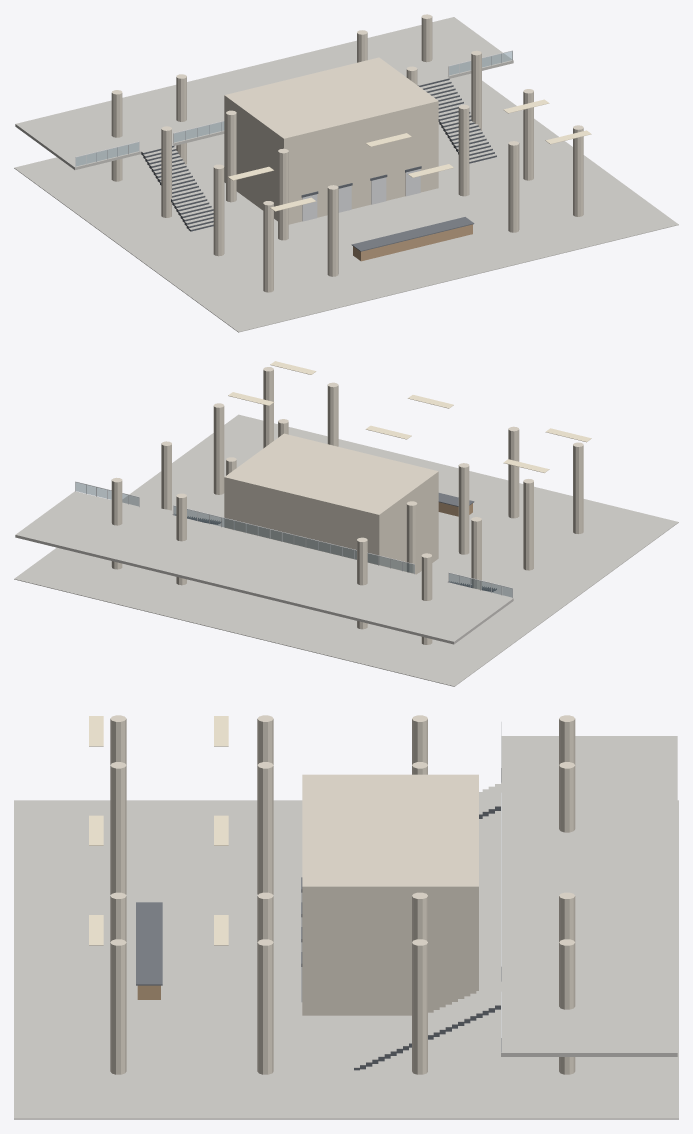
The model's file is SM_Tour_F_Interieur.fbx.
The picture shows the model from 3 angles, top to bottom: view 1: azimuth 30°, elevation 25°; view 2: azimuth 150°, elevation 25°; view 3: azimuth 270°, elevation 25°; orthographic projection. The views are drawn at different scales.
Parts seen in each view (by area): view 1: TourF_Lobby_Int; view 2: TourF_Lobby_Int; view 3: TourF_Lobby_Int.
Part boxes in pixels (x1,y1,x2,y2): TourF_Lobby_Int: (14, 14, 678, 332); TourF_Lobby_Int: (14, 361, 678, 686); TourF_Lobby_Int: (14, 715, 678, 1119).
Bounding box in the file's own units: 5120 × 987 × 4520.
